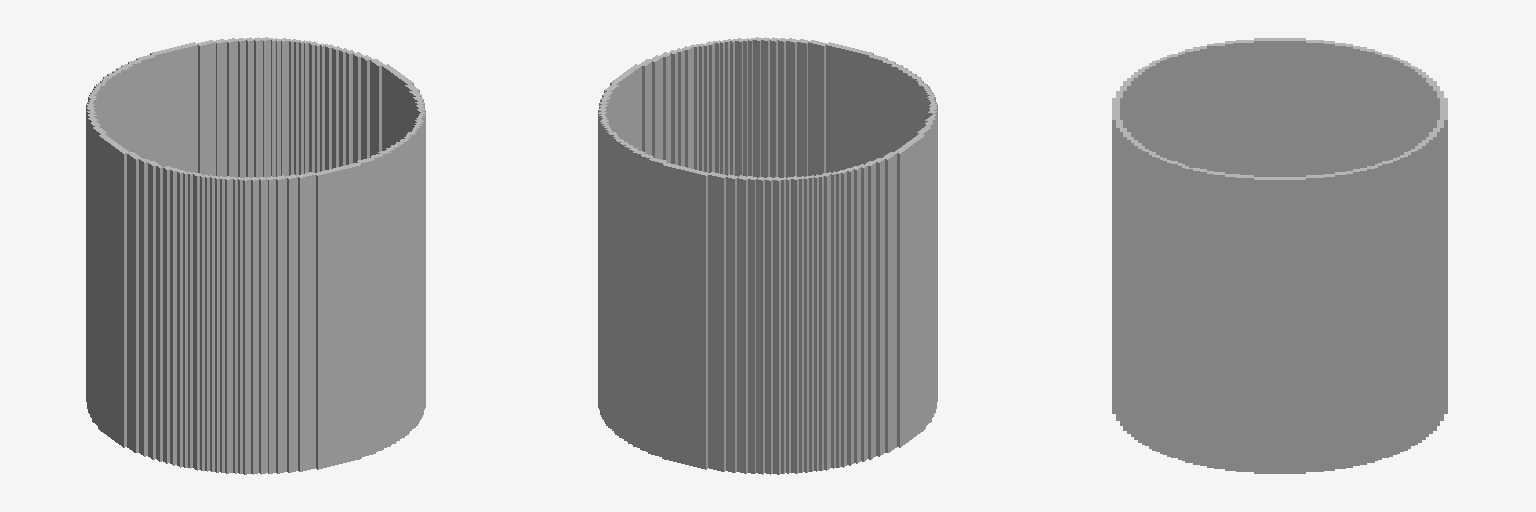
File: 2 лвл-17.obj
The picture shows the model from 3 angles: view 1: azimuth 30°, elevation 25°; view 2: azimuth 150°, elevation 25°; view 3: azimuth 270°, elevation 25°; orthographic projection.
Parts seen in each view (by area): view 1: object 1; view 2: object 1; view 3: object 1.
Part boxes in pixels (x1,y1,x2,y2): object 1: (86, 37, 425, 474); object 1: (598, 37, 937, 474); object 1: (1112, 38, 1447, 473).
Size of the model in its own units: 9.2 by 8.9 by 9.2.